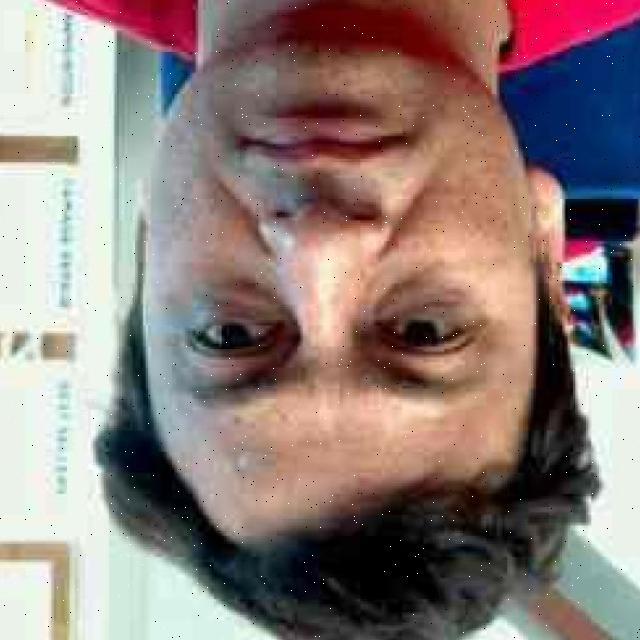puffy_eyes: (374, 281, 459, 316), (201, 283, 286, 312)
